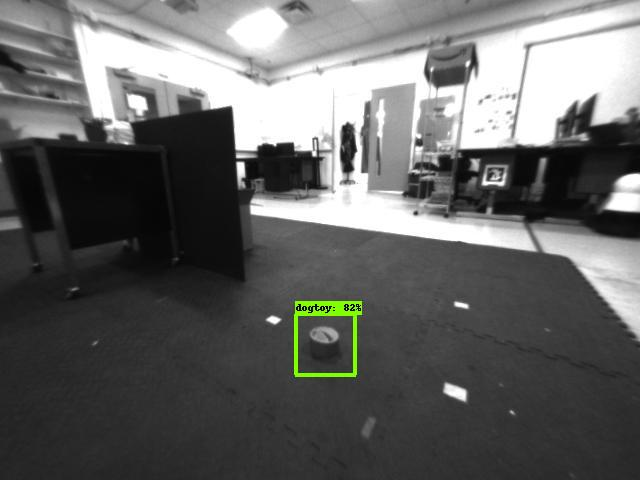dogtoy: (292, 319, 364, 375)
